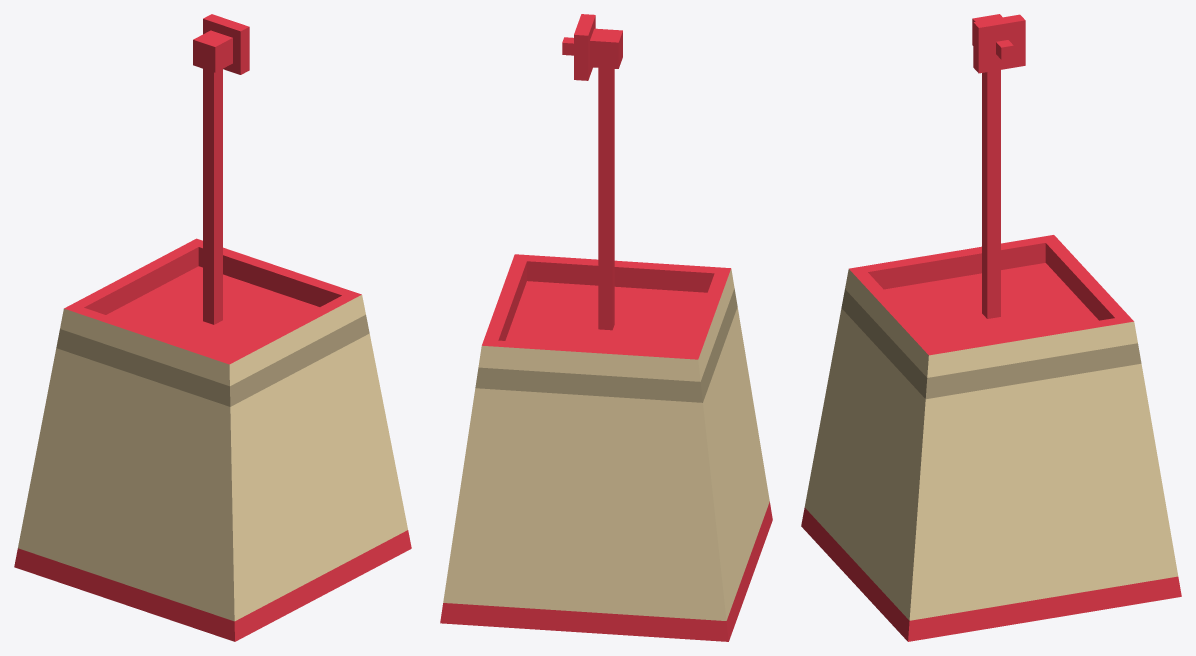
The model's file is Fan_Tower.fbx.
3 renders of one model, left to right at view 1: azimuth 30°, elevation 25°; view 2: azimuth 150°, elevation 25°; view 3: azimuth 270°, elevation 25°, orthographic. The views are drawn at different scales.
Parts seen in each view (by area): view 1: Fan_Tower; view 2: Fan_Tower; view 3: Fan_Tower.
Part boxes in pixels (box(x1,y1,x2,y2)): Fan_Tower: box(14, 14, 411, 641); Fan_Tower: box(440, 14, 772, 641); Fan_Tower: box(801, 14, 1181, 641).
Bounding box in the file's own units: 259 × 412 × 259.
